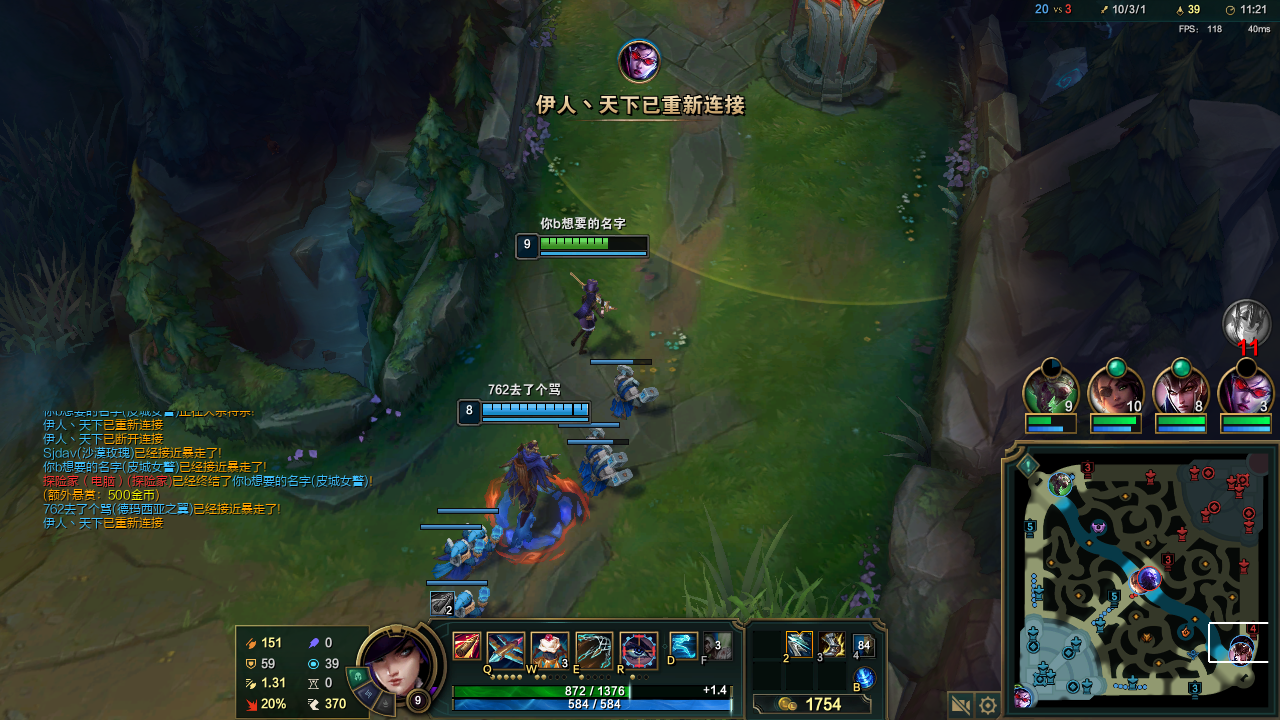DFFYT: (783, 1, 892, 108)
WFXB: (578, 453, 637, 494), (608, 370, 657, 416), (457, 529, 501, 558), (582, 436, 619, 468), (453, 583, 489, 615), (437, 549, 475, 568)
